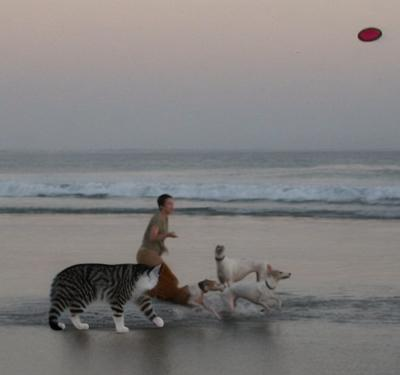cat: (49, 263, 175, 330)
dog: (220, 264, 294, 319), (153, 278, 228, 322), (214, 243, 269, 286)
person: (136, 193, 180, 297)
